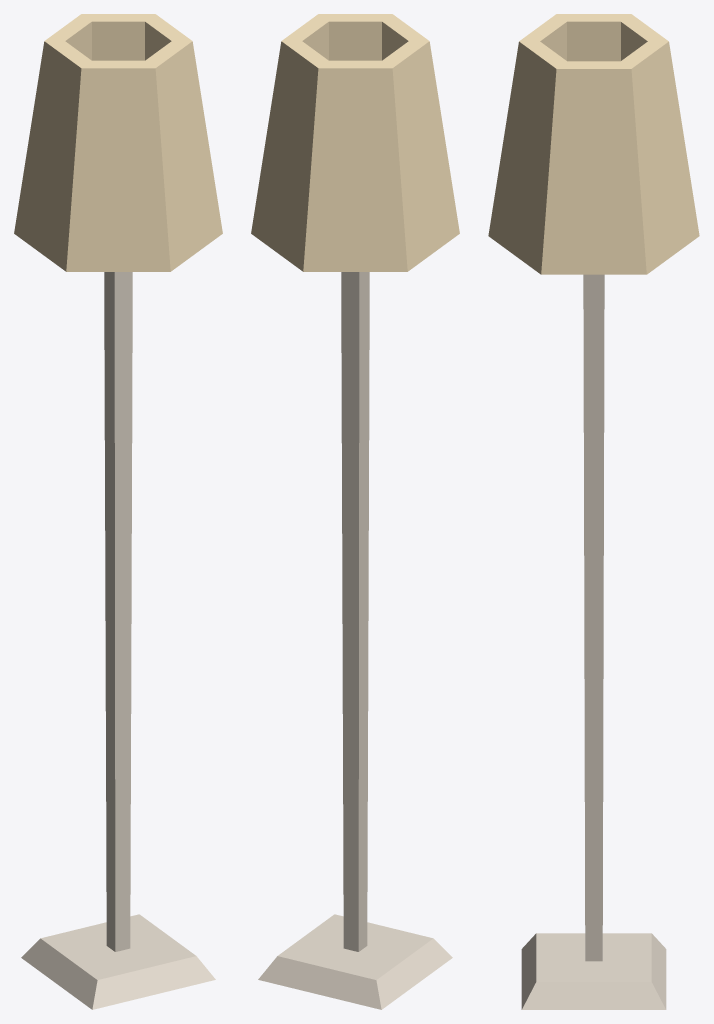
File: kitLampRoundFloor.glb
3 views of the same model, side by side, from view 1: azimuth 30°, elevation 25°; view 2: azimuth 150°, elevation 25°; view 3: azimuth 270°, elevation 25° (orthographic).
Visible parts, largest first — view 1: kitLampRoundFloor_glow, kitLampRoundFloor_metal; view 2: kitLampRoundFloor_glow, kitLampRoundFloor_metal; view 3: kitLampRoundFloor_glow, kitLampRoundFloor_metal.
Boxes of the visible parts, box(x1,y1,x2,y2) form: kitLampRoundFloor_glow: box(14, 14, 222, 271); kitLampRoundFloor_metal: box(21, 272, 215, 1009); kitLampRoundFloor_glow: box(251, 14, 459, 271); kitLampRoundFloor_metal: box(258, 272, 452, 1009); kitLampRoundFloor_glow: box(488, 14, 699, 274); kitLampRoundFloor_metal: box(521, 274, 666, 1009).
Bounding box in the file's own units: 0.3041 × 1.72 × 0.3511.
